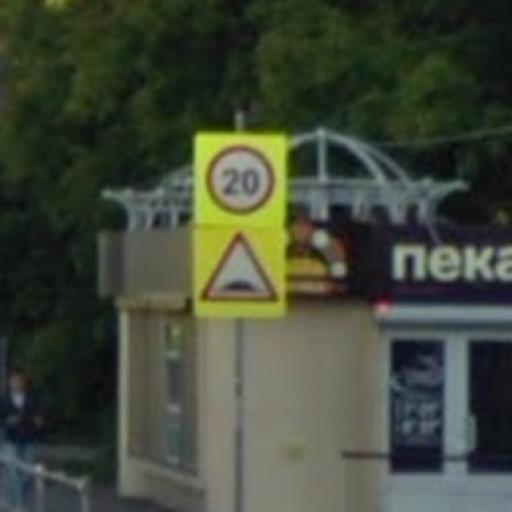traffic_sign: (200, 229, 282, 309), (203, 143, 281, 219)
